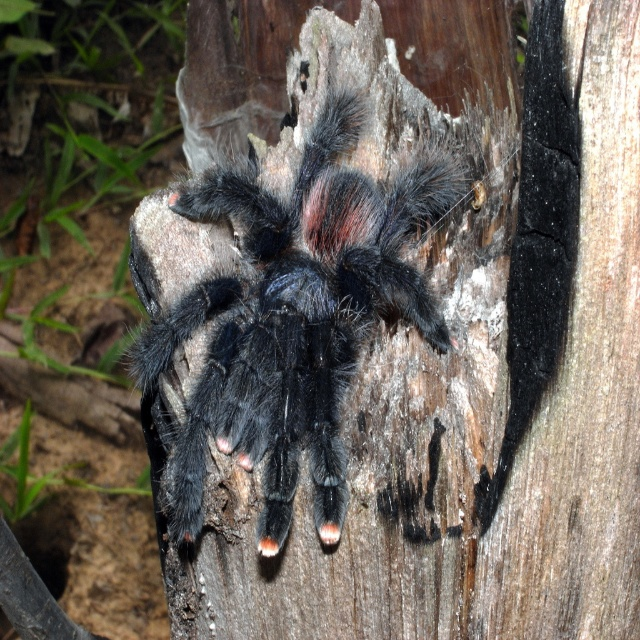Spider: (112, 58, 476, 561)
